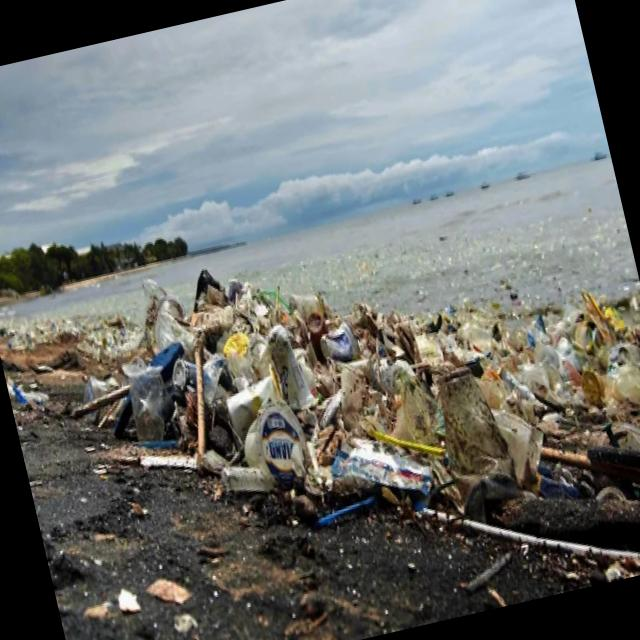garbage: (52, 140, 640, 640)
